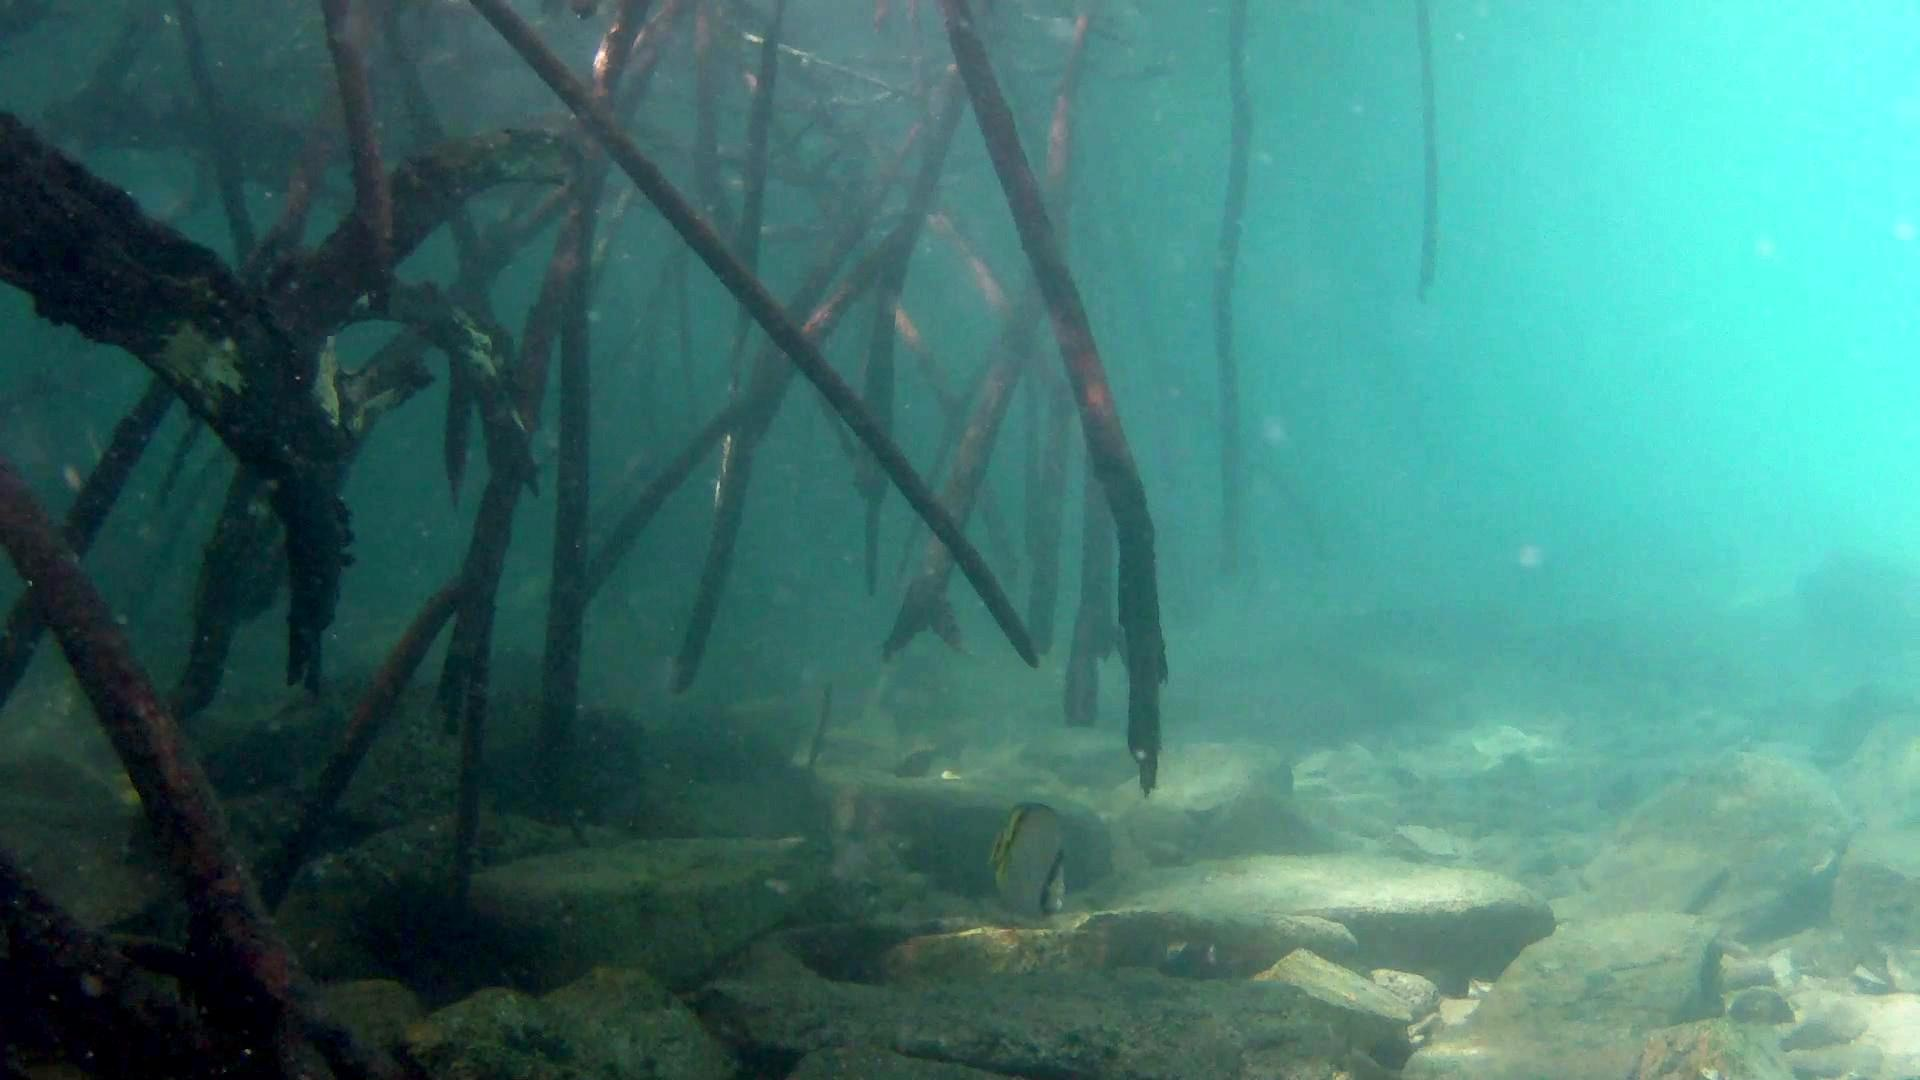chaetodon vagabundus: (988, 798, 1071, 920)
